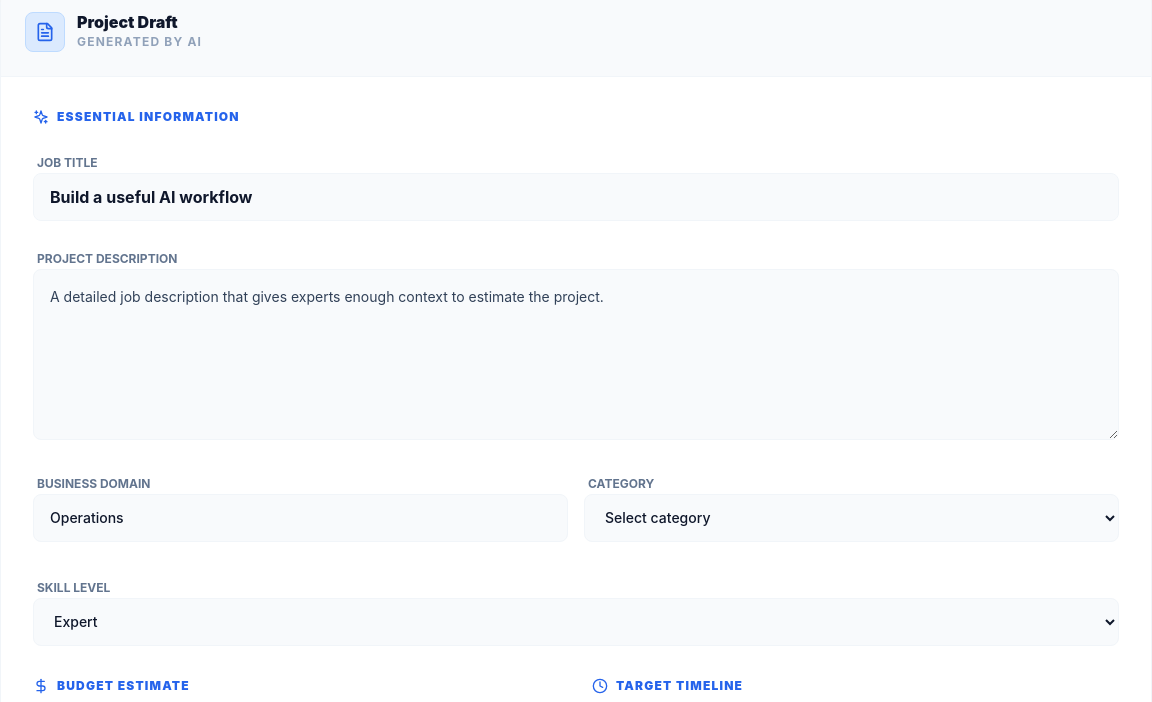
Test: JobDraftForm milestone budget feedback › shows a specific field validation message for other schema failures
Replace the text in the field labelled "Job Title" with "Bad". click: (576, 197)
box: [33, 173, 1119, 221]
(page scrolled)
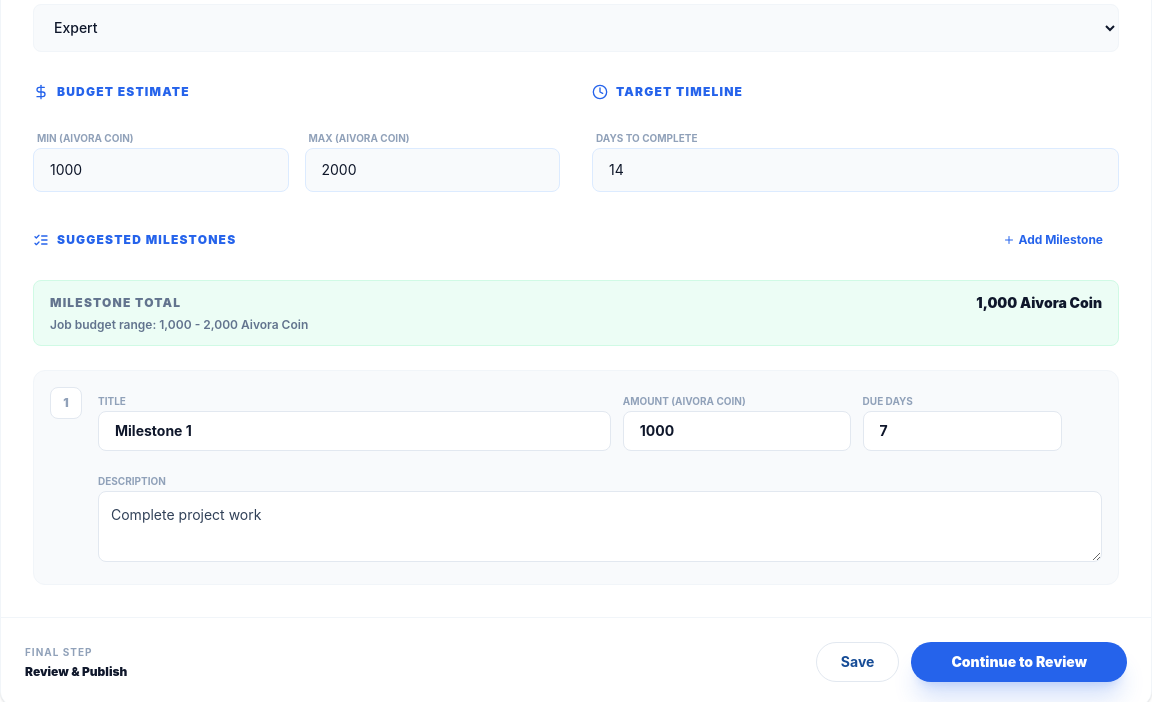
Click the button "Continue to Review". click: (1019, 662)
box: [911, 642, 1127, 682]
(page scrolled)
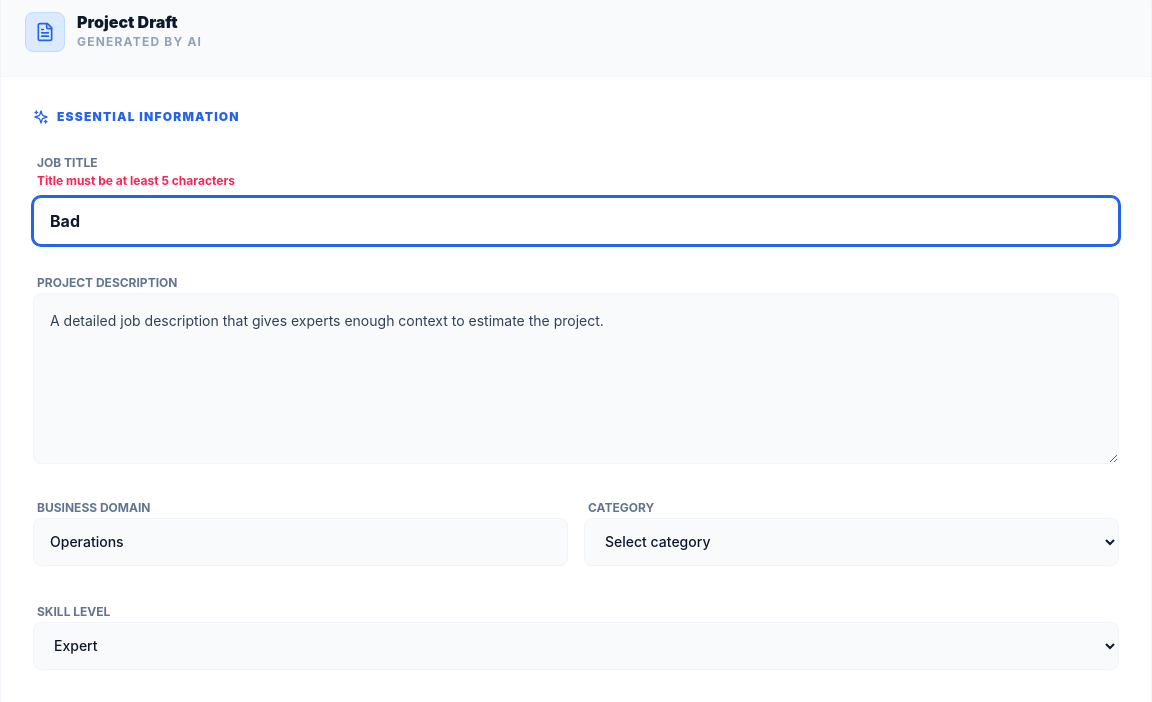
Expected: the text "Title must be at least 5 characters" is shown, [37, 173, 235, 188]
